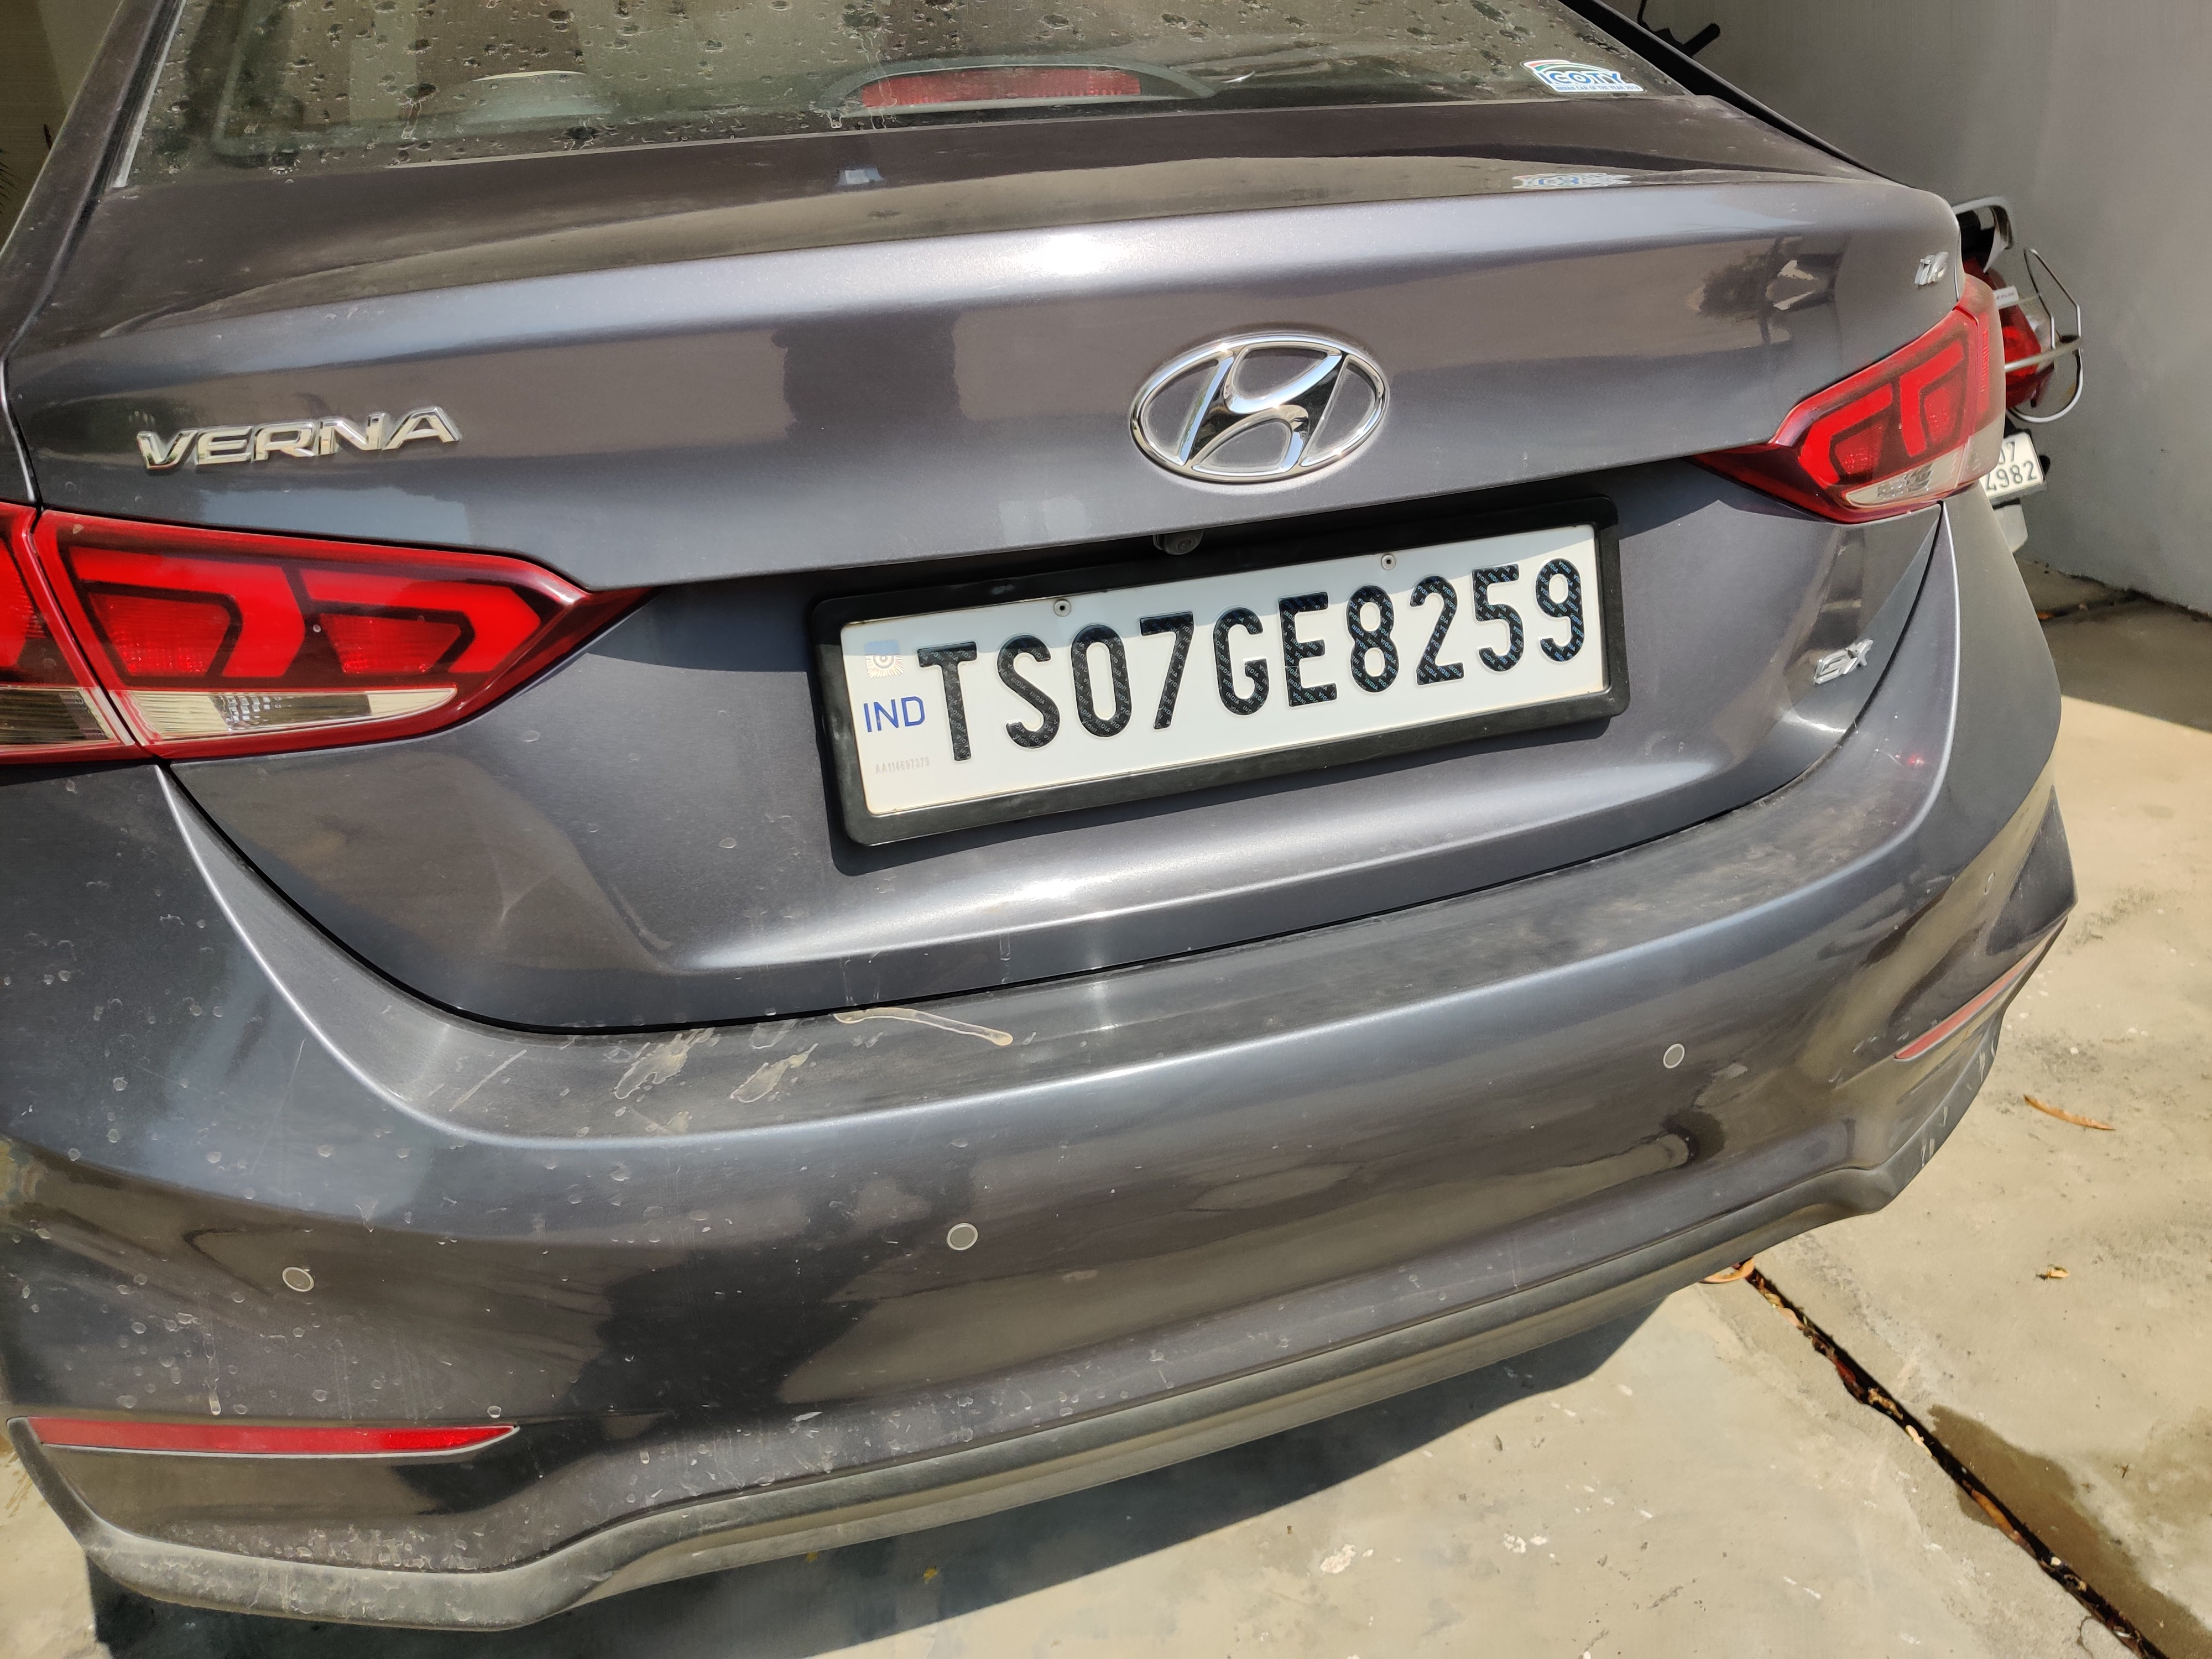plate: (788, 453, 1641, 891)
